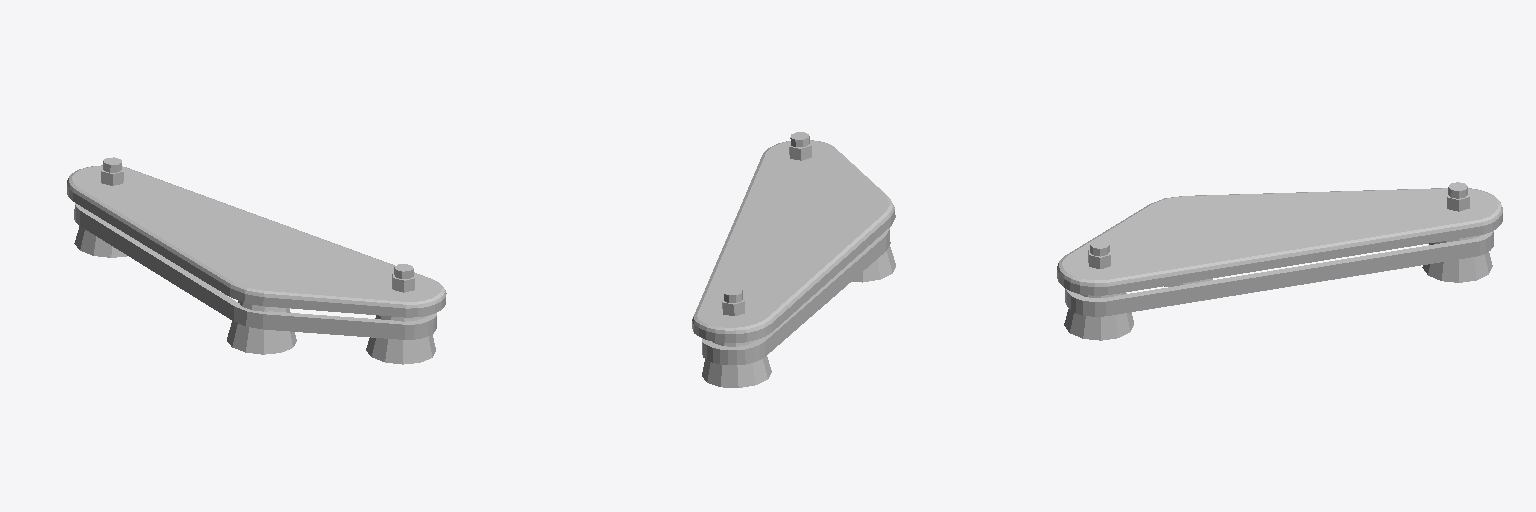
The model's file is LeftLowerBumper.obj.
3 views of the same model, side by side, from view 1: azimuth 30°, elevation 25°; view 2: azimuth 150°, elevation 25°; view 3: azimuth 270°, elevation 25° (orthographic).
Visible parts, largest first — view 1: MediumBumper.001_Untitled.002; view 2: MediumBumper.001_Untitled.002; view 3: MediumBumper.001_Untitled.002.
Part boxes in pixels (x1,y1,x2,y2): MediumBumper.001_Untitled.002: (67,157,446,364); MediumBumper.001_Untitled.002: (692,132,895,387); MediumBumper.001_Untitled.002: (1057,182,1502,340).
Size of the model in its own units: 0.096 by 0.0425 by 0.1989.